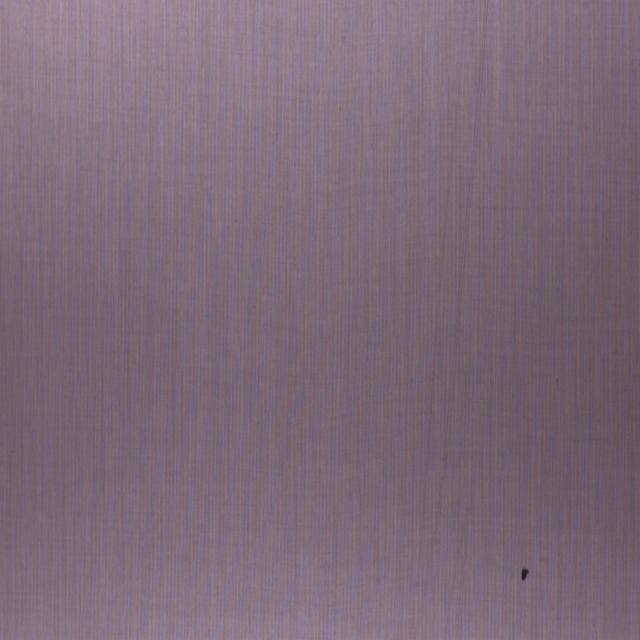dirty: (521, 566, 529, 582)
